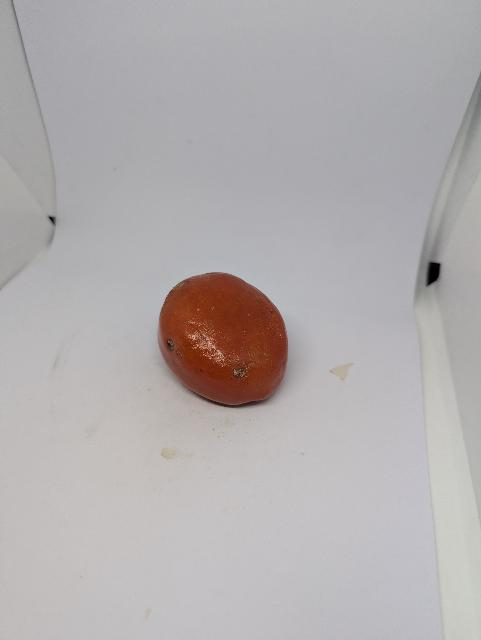defect: (147, 265, 315, 416)
